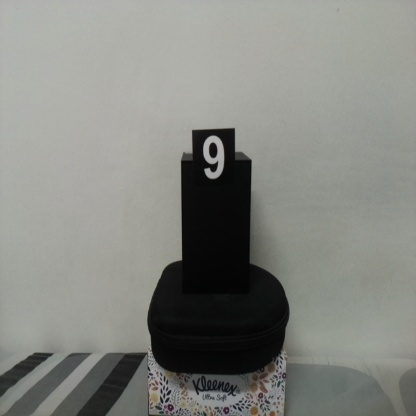id_9: (192, 130, 236, 193)
